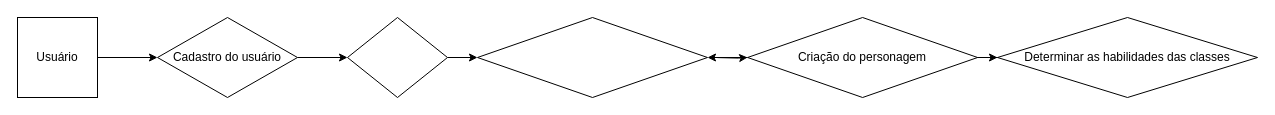
This 1275x115 diagram has some shape labels left out. The centre of each missing label's shape, as x and y in pixels:
Criação da classe do personagem: pixel 592 57
Login: pixel 397 57
